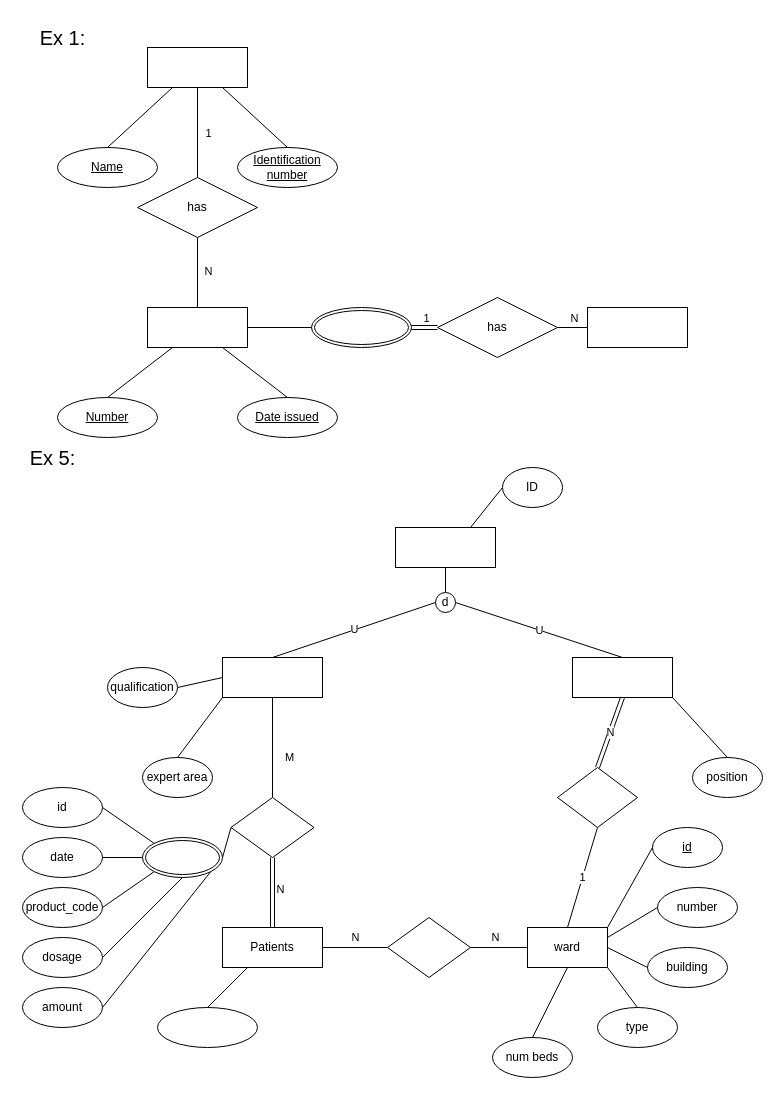
Some shapes in this 780 by 1095 pixel diagram are drawn without their labels. Here are the shapes that lost their labels. From the top down, the centre of each, then its label:
point 197,67: Journal
point 197,327: Issue
point 361,327: Article
point 637,327: Writer
point 445,547: Employees
point 272,677: Physicians
point 622,677: Nurse
point 597,797: Serve
point 272,827: Treat
point 182,857: prescription
point 428,947: place
point 207,1027: SSN
